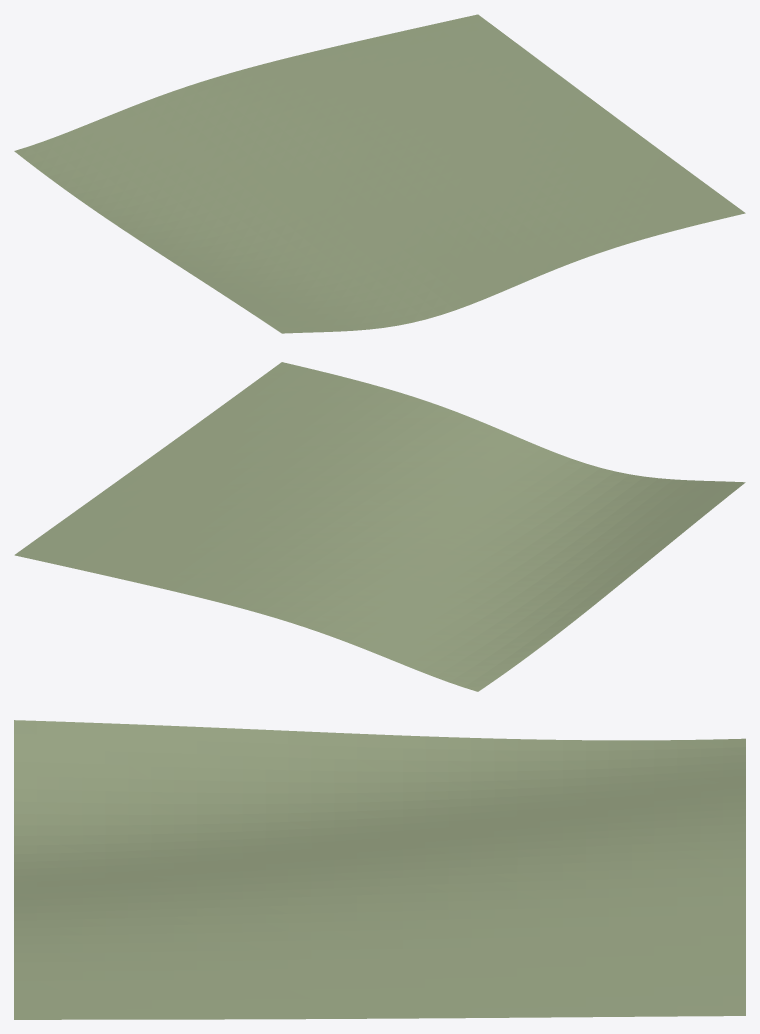
The model's file is desert-14-25.glb.
3 renders of one model, top to bottom at view 1: azimuth 30°, elevation 25°; view 2: azimuth 150°, elevation 25°; view 3: azimuth 270°, elevation 25°, orthographic. The views are drawn at different scales.
Parts seen in each view (by area): view 1: desert-14-25; view 2: desert-14-25; view 3: desert-14-25.
Part boxes in pixels (bbox=[...]): desert-14-25: bbox=[14, 14, 745, 333]; desert-14-25: bbox=[14, 362, 745, 691]; desert-14-25: bbox=[14, 720, 745, 1019].
Size of the model in its own units: 512 by 35.69 by 512.
